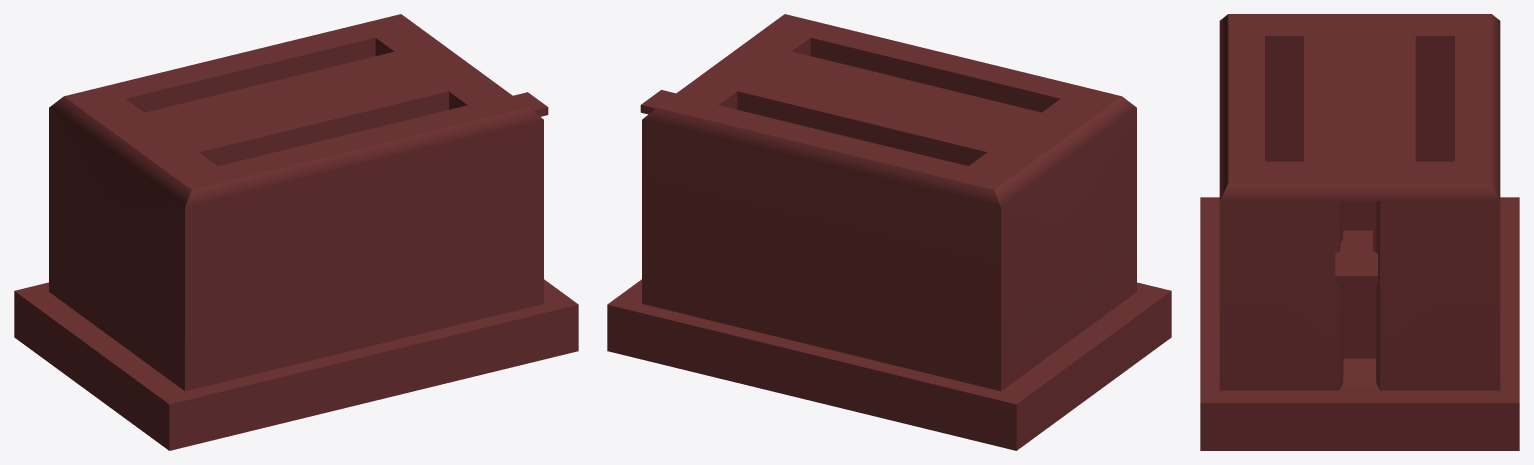
Rendered from Toaster.fbx.
3 renders of one model, left to right at view 1: azimuth 30°, elevation 25°; view 2: azimuth 150°, elevation 25°; view 3: azimuth 270°, elevation 25°, orthographic. The views are drawn at different scales.
Visible parts, largest first — view 1: Toaster1; view 2: Toaster1; view 3: Toaster1.
Boxes of the visible parts, left/top/right/bottom form: Toaster1: left=14, top=14, right=578, bottom=450; Toaster1: left=607, top=14, right=1171, bottom=450; Toaster1: left=1200, top=14, right=1519, bottom=450.
Size of the model in its own units: 6.44 by 3.35 by 3.89.
